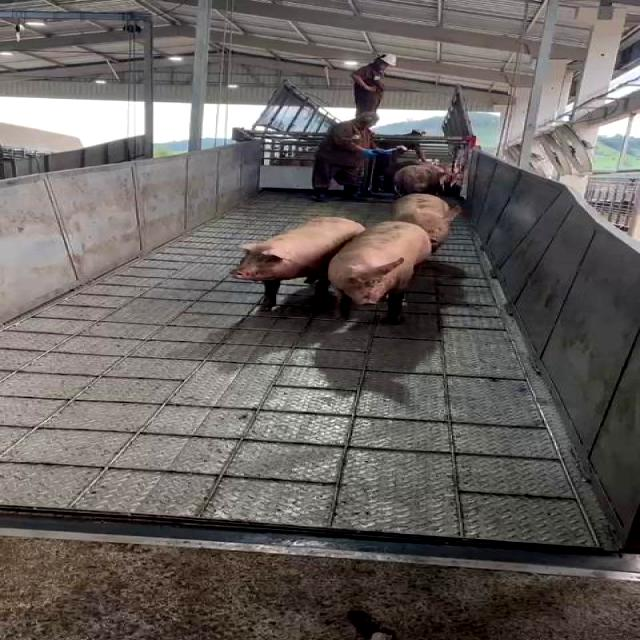pig: (231, 218, 364, 309), (328, 221, 431, 323)
